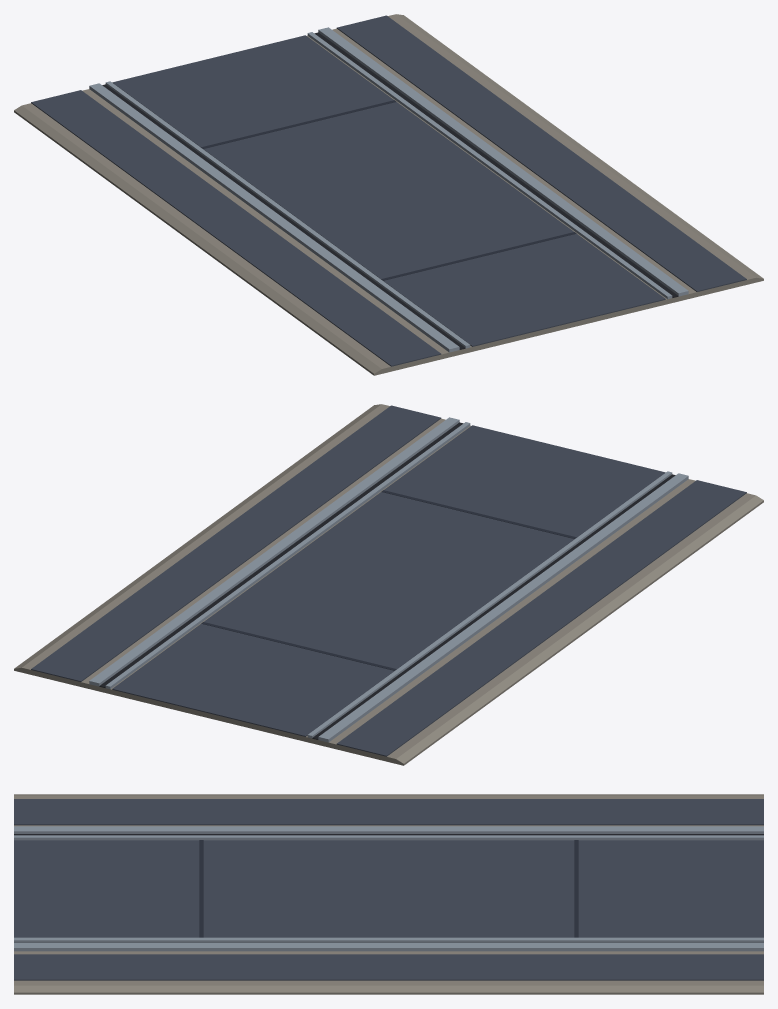
Rendered from rail_straight.glb.
3 views of the same model, one above another, from view 1: azimuth 30°, elevation 25°; view 2: azimuth 150°, elevation 25°; view 3: azimuth 270°, elevation 25° (orthographic). The views are drawn at different scales.
Parts seen in each view (by area): view 1: Track; view 2: Track; view 3: Track.
Boxes of the visible parts, box(x1,y1,x2,y2) form: Track: box(14, 14, 763, 375); Track: box(14, 404, 763, 765); Track: box(14, 794, 763, 994).
Bounding box in the file's own units: 2.5 × 0.05 × 4.
